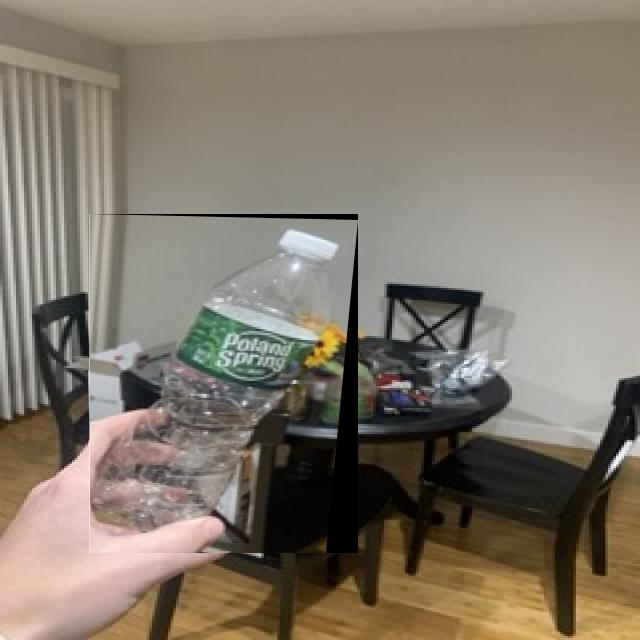water_bottle: (90, 218, 351, 553)
